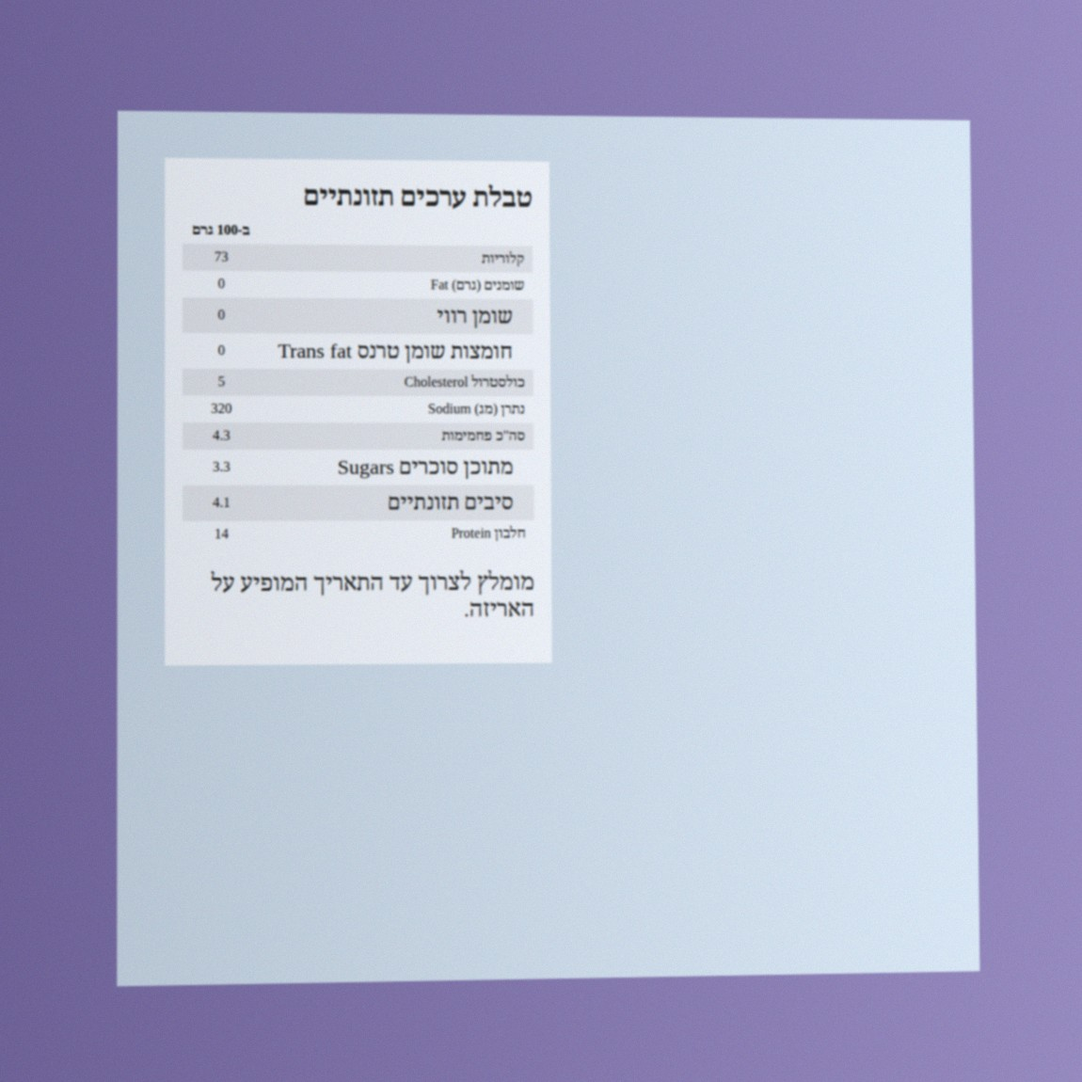carbs: (211, 426, 232, 446)
energy: (212, 247, 230, 268)
fat: (216, 274, 227, 294)
protein: (212, 524, 230, 545)
